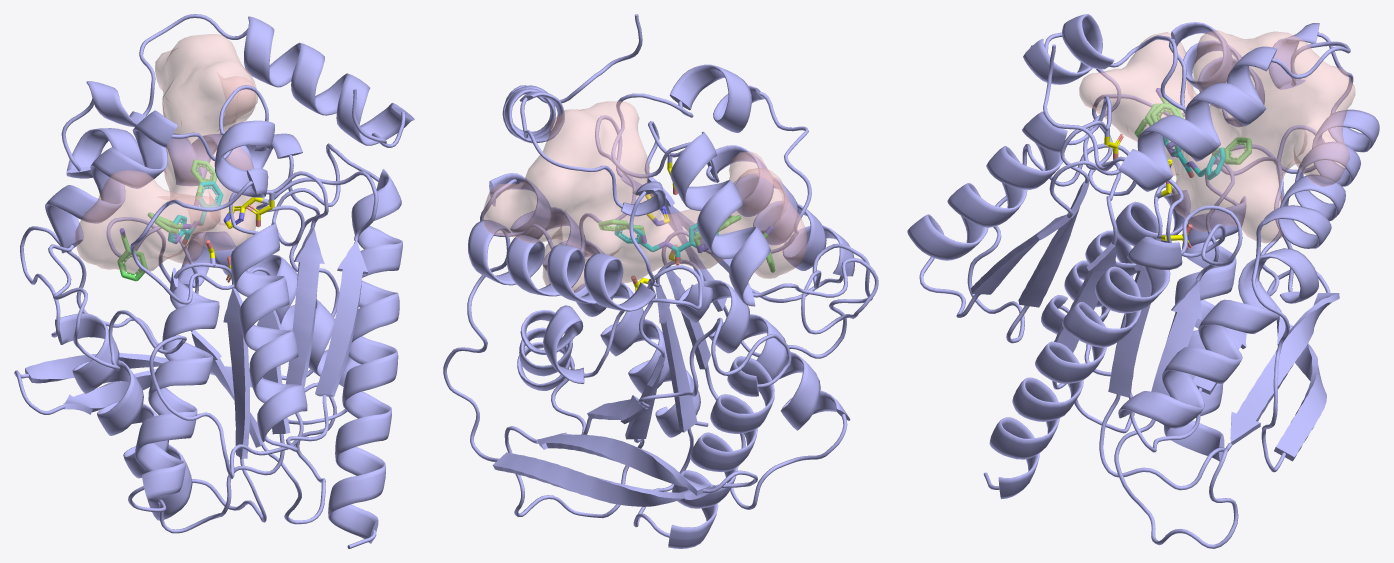
File: SPL_overview_transp.gltf
The picture shows the model from 3 angles, left to right: view 1: azimuth 30°, elevation 25°; view 2: azimuth 150°, elevation 25°; view 3: azimuth 270°, elevation 25°; orthographic projection. The views are drawn at different scales.
Visible parts, largest first — view 1: node-geom38, node-geom37, node-geom170, node-geom39; view 2: node-geom37, node-geom38, node-geom170, node-geom39; view 3: node-geom37, node-geom38, node-geom170, node-geom39.
Part boxes in pixels (x1,y1,x2,y2): node-geom38: (45,85,328,533); node-geom37: (14,14,414,524); node-geom170: (75,34,261,273); node-geom39: (256,143,402,548); node-geom37: (443,14,791,539); node-geom38: (611,64,878,548); node-geom170: (482,101,807,293); node-geom39: (480,115,732,437); node-geom37: (1043,23,1379,548); node-geom38: (907,14,1264,490); node-geom170: (1079,30,1355,243); node-geom39: (970,160,1242,499).
Size of the model in its own units: 39.52 by 50 by 43.23.
